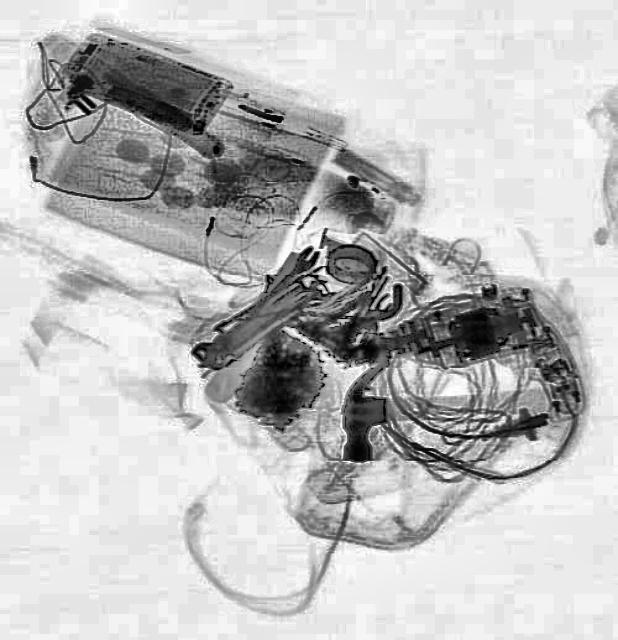Wrench: (236, 241, 324, 323), (187, 317, 256, 365)
